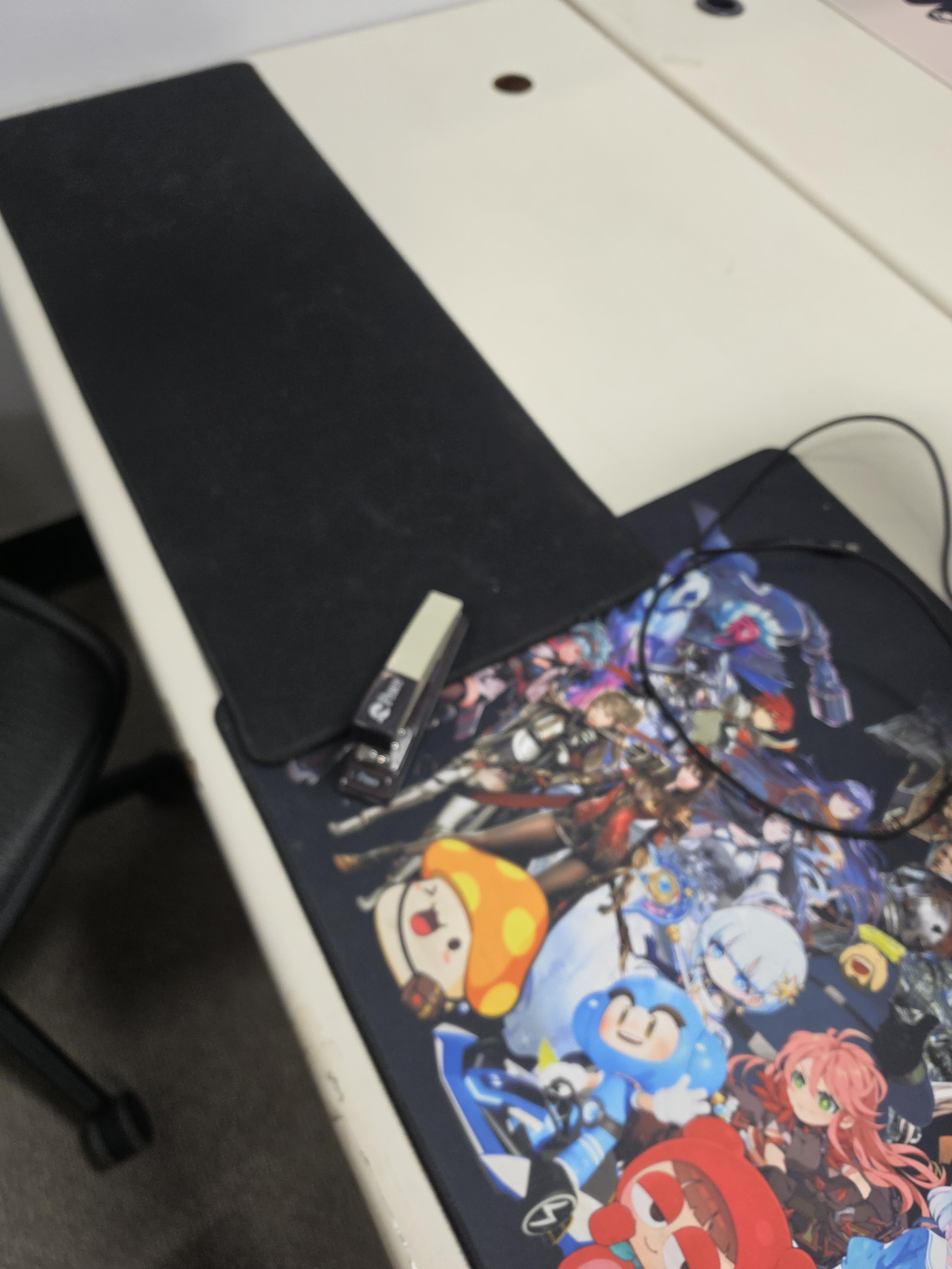stapler: (335, 589, 470, 805)
